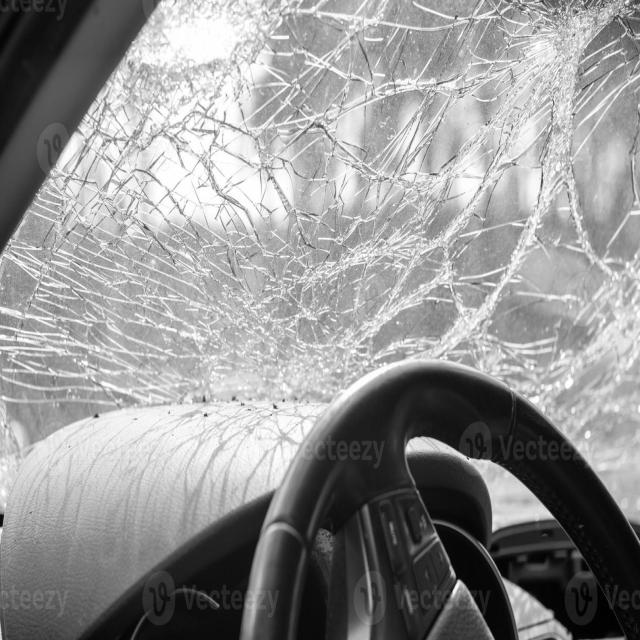crack: (0, 0, 640, 508)
